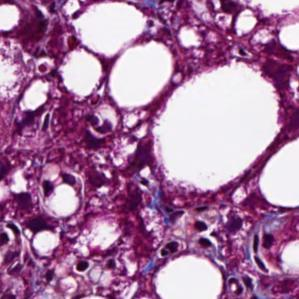inflammation: (62, 252, 133, 295), (156, 218, 221, 260), (71, 113, 122, 144)
